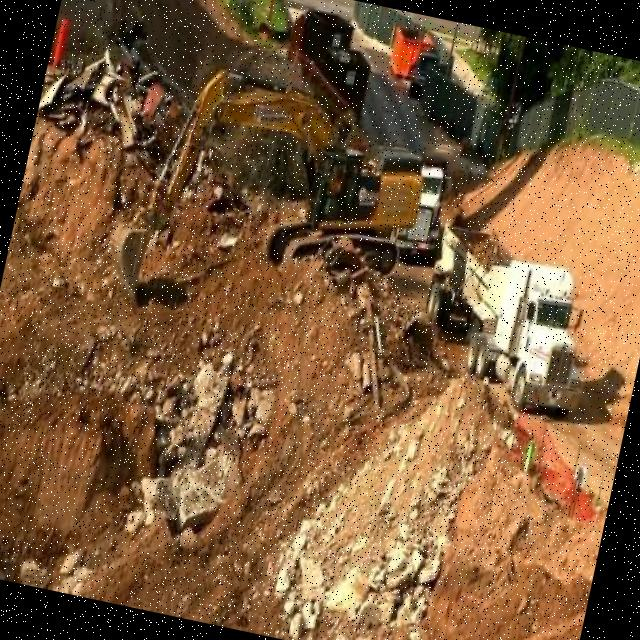Dump Truck: (407, 223, 610, 418), (388, 148, 456, 272)
Excavator: (102, 50, 440, 355)
